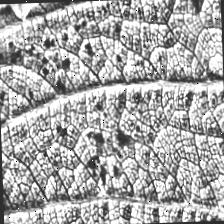Angular Leafspot: (0, 0, 224, 218)
